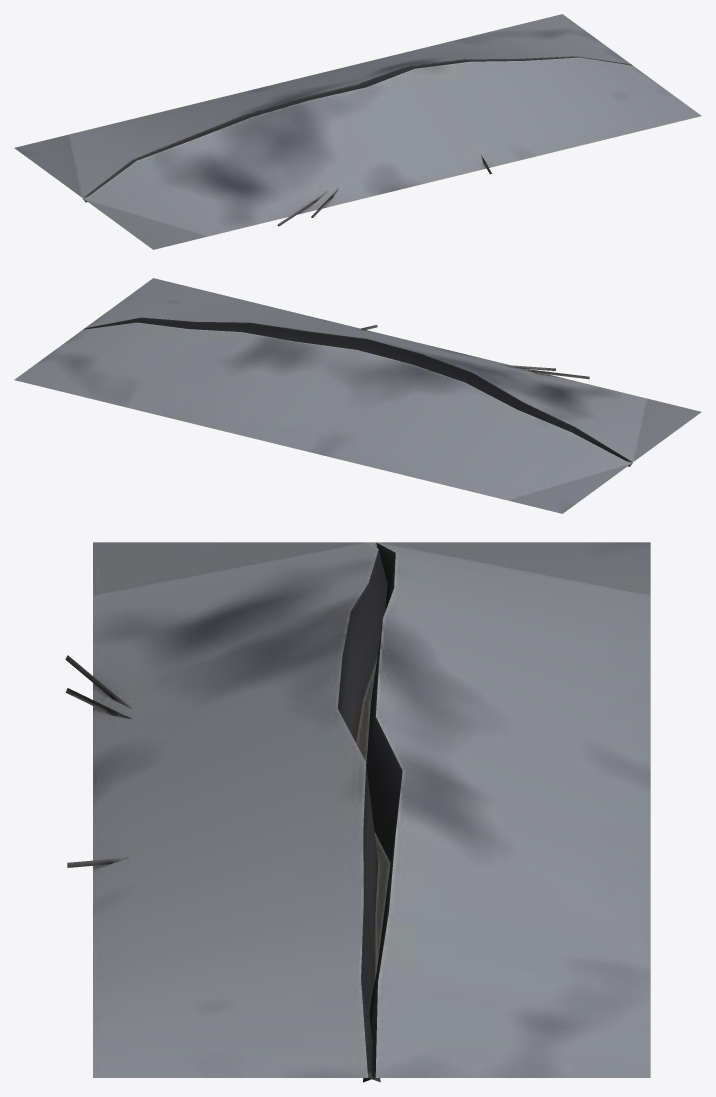
File: asphalt_heave.glb
The picture shows the model from 3 angles, top to bottom: view 1: azimuth 30°, elevation 25°; view 2: azimuth 150°, elevation 25°; view 3: azimuth 270°, elevation 25°; orthographic projection. The views are drawn at different scales.
Visible parts, largest first — view 1: asphalt_heave; view 2: asphalt_heave; view 3: asphalt_heave.
Part boxes in pixels (x1=…): asphalt_heave: x1=14, y1=14, x2=701, y2=249; asphalt_heave: x1=14, y1=278, x2=701, y2=513; asphalt_heave: x1=65, y1=542, x2=650, y2=1082.
Bounding box in the file's own units: 5 × 0.5121 × 2.31.
Materials: 1 (1 with a texture image).
